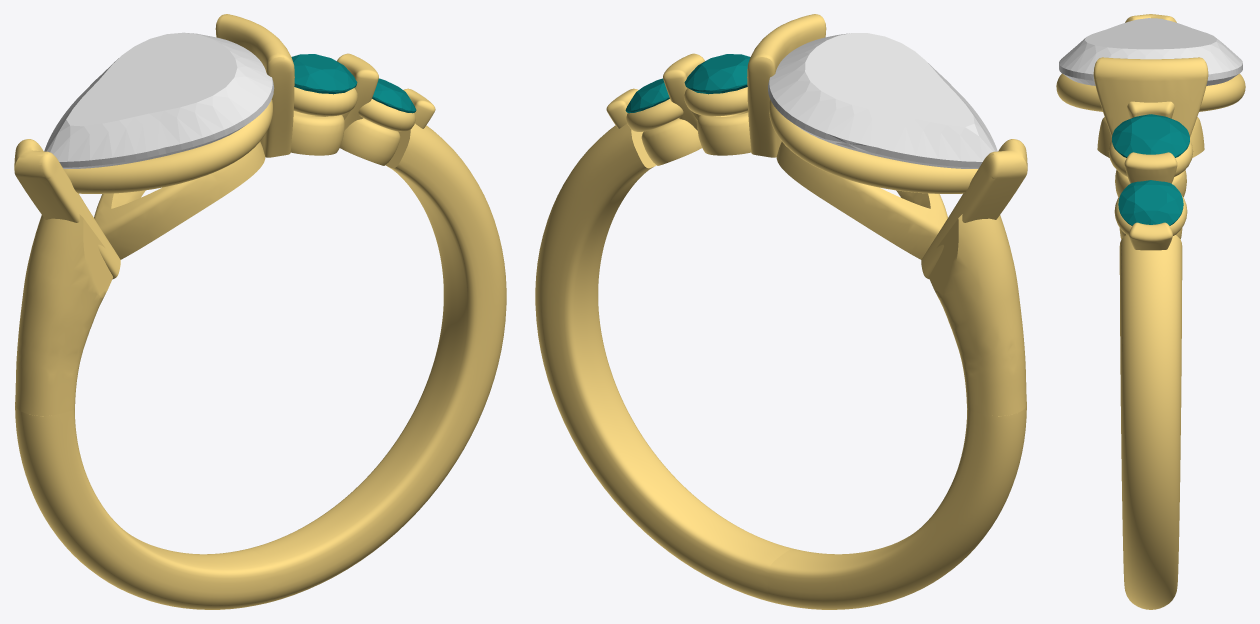
The model's file is NicolasYGhalfmoonENG_blender.glb.
The picture shows the model from 3 angles, left to right: view 1: azimuth 30°, elevation 25°; view 2: azimuth 150°, elevation 25°; view 3: azimuth 270°, elevation 25°; orthographic projection. The views are drawn at different scales.
Visible parts, largest first — view 1: V2 Nicolas YG for 3d model, V2 Nicolas center dia for 3d model, V2 Nicolas side sapphire for 3d model.001, V2 Nicolas side sapphire for 3d model; view 2: V2 Nicolas YG for 3d model, V2 Nicolas center dia for 3d model, V2 Nicolas side sapphire for 3d model.001, V2 Nicolas side sapphire for 3d model; view 3: V2 Nicolas YG for 3d model, V2 Nicolas center dia for 3d model, V2 Nicolas side sapphire for 3d model.001, V2 Nicolas side sapphire for 3d model.
Boxes of the visible parts, box(x1,y1,x2,y2) form: V2 Nicolas YG for 3d model: box(14, 14, 506, 609); V2 Nicolas center dia for 3d model: box(44, 32, 274, 168); V2 Nicolas side sapphire for 3d model.001: box(291, 54, 357, 94); V2 Nicolas side sapphire for 3d model: box(372, 78, 416, 113); V2 Nicolas YG for 3d model: box(535, 14, 1027, 609); V2 Nicolas center dia for 3d model: box(768, 33, 997, 168); V2 Nicolas side sapphire for 3d model.001: box(684, 54, 750, 94); V2 Nicolas side sapphire for 3d model: box(625, 78, 669, 113); V2 Nicolas YG for 3d model: box(1056, 14, 1245, 609); V2 Nicolas center dia for 3d model: box(1059, 18, 1242, 85); V2 Nicolas side sapphire for 3d model.001: box(1112, 114, 1189, 157); V2 Nicolas side sapphire for 3d model: box(1118, 180, 1183, 225).
Size of the model in its own units: 19.9 by 22.29 by 7.26.
